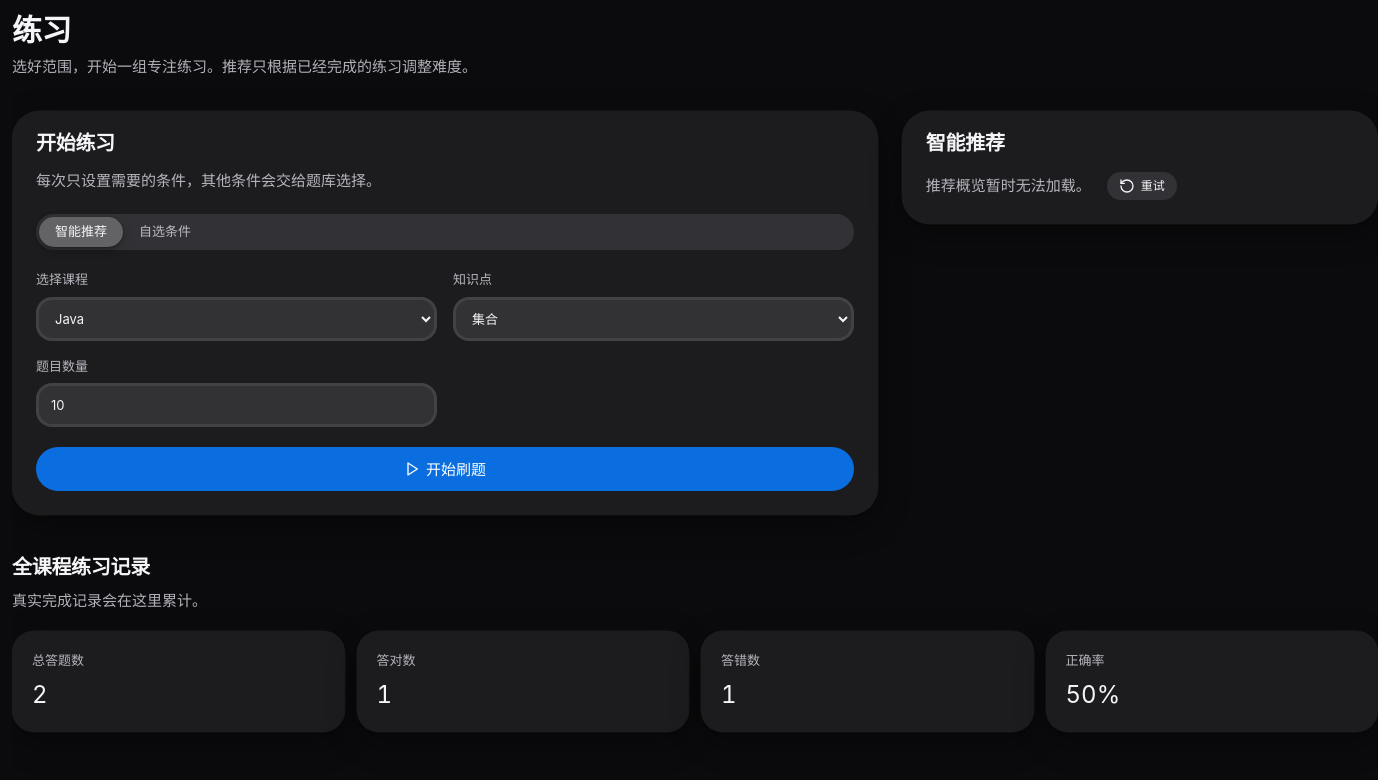
Test: PracticeView › keeps a failed recommendation distinct from an empty successful recommendation and retries it
Expected: the element with test id "state-panel" is shown, [926,172,1177,200]
Click the button "重试": [1142, 186] box [1107,172,1177,200]
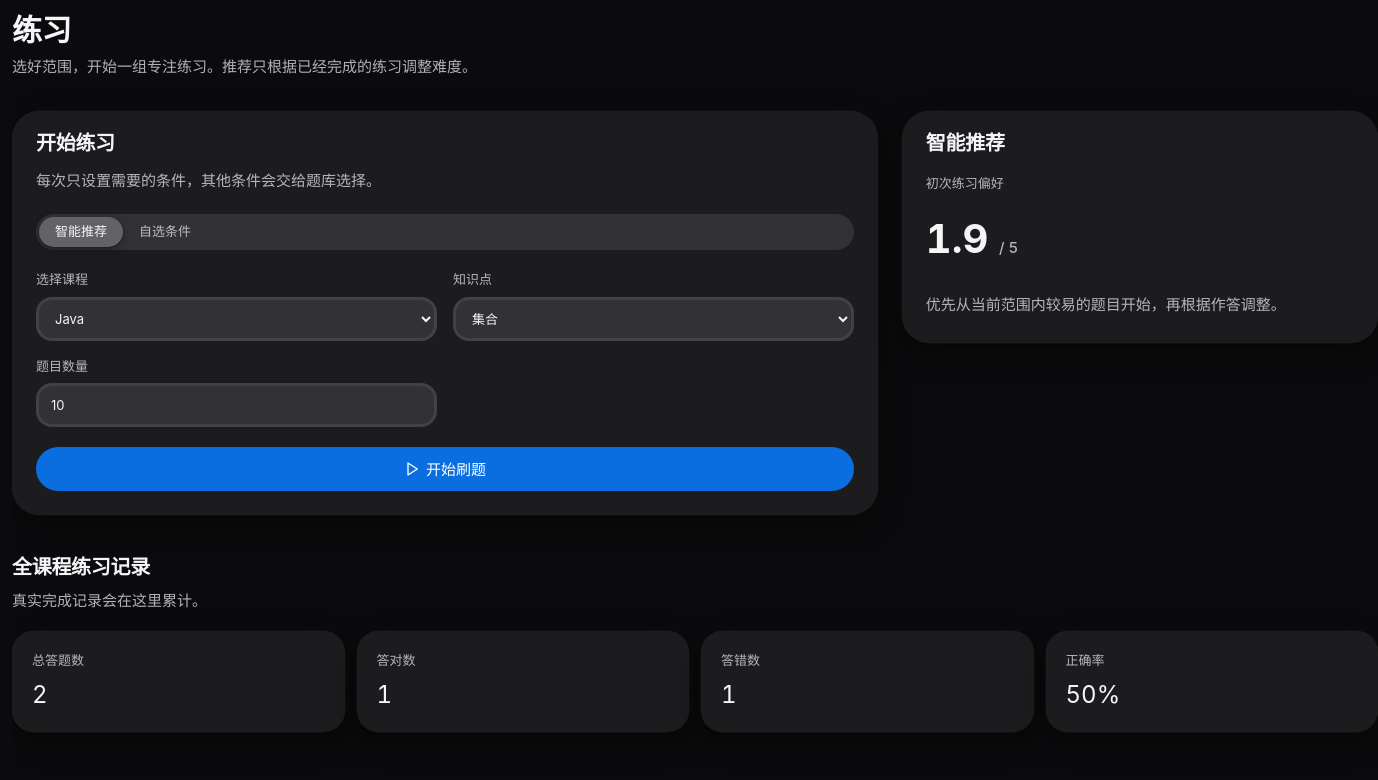
Expected: the text "初次练习偏好" is shown, [926,174,1004,190]
